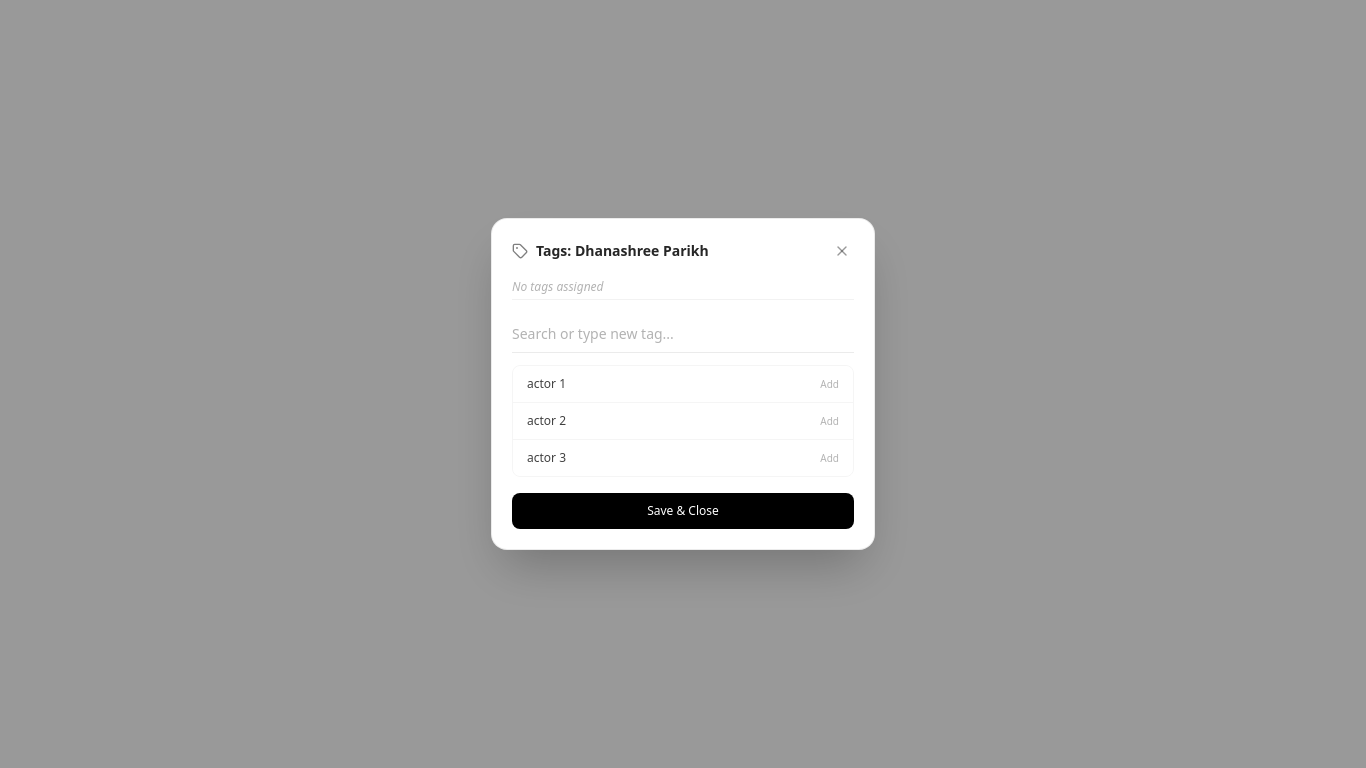
Test: TagPopover — multi-select tag assignment › never allows a tag to be staged twice — clicking again unstages it
The width and height of the screenshot is (1366, 768).
Click the button with test id "tag-option-t1" at (547, 384), box x1=513 y1=366 x2=853 y2=402
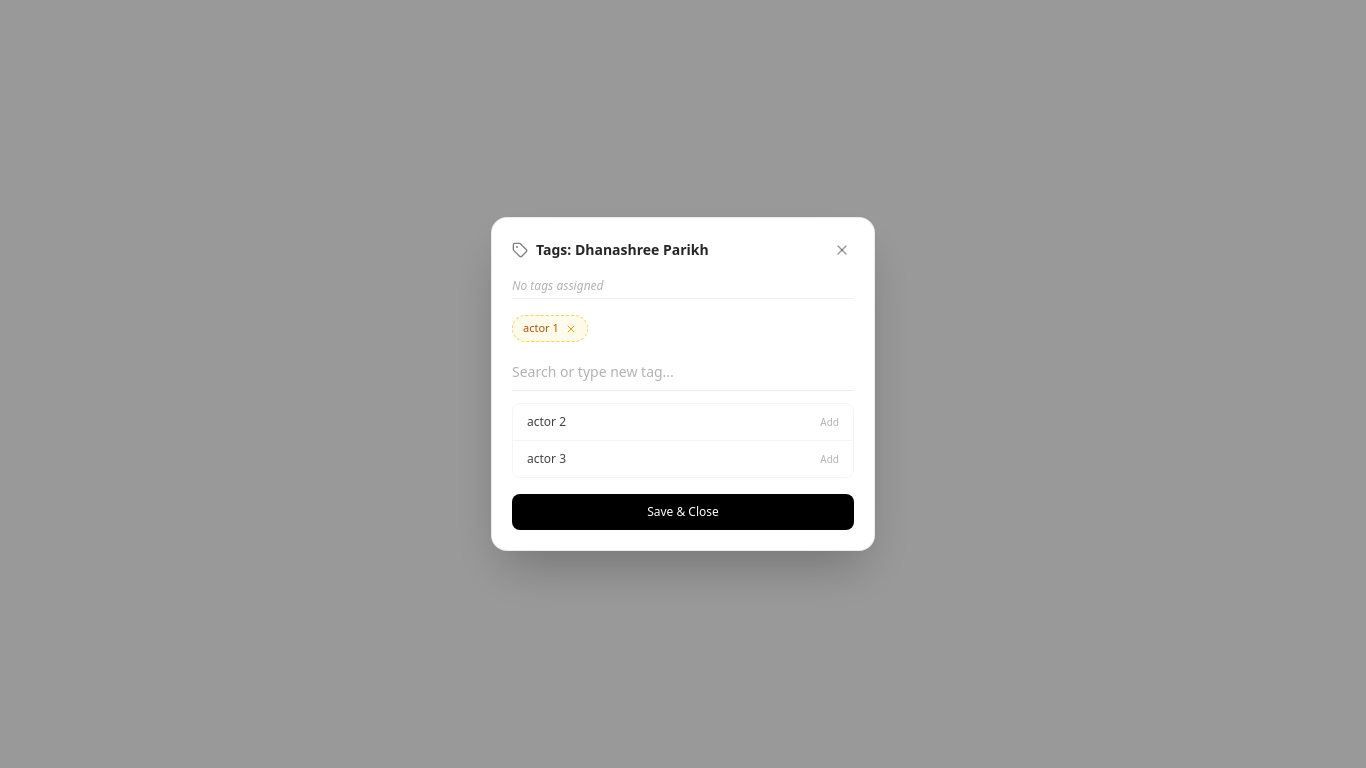
Expected: the element with test id "pending-tag-t1" is shown, x1=512 y1=315 x2=588 y2=342
Click the button without text next to "actor 1" at (571, 328), box x1=565 y1=322 x2=577 y2=334
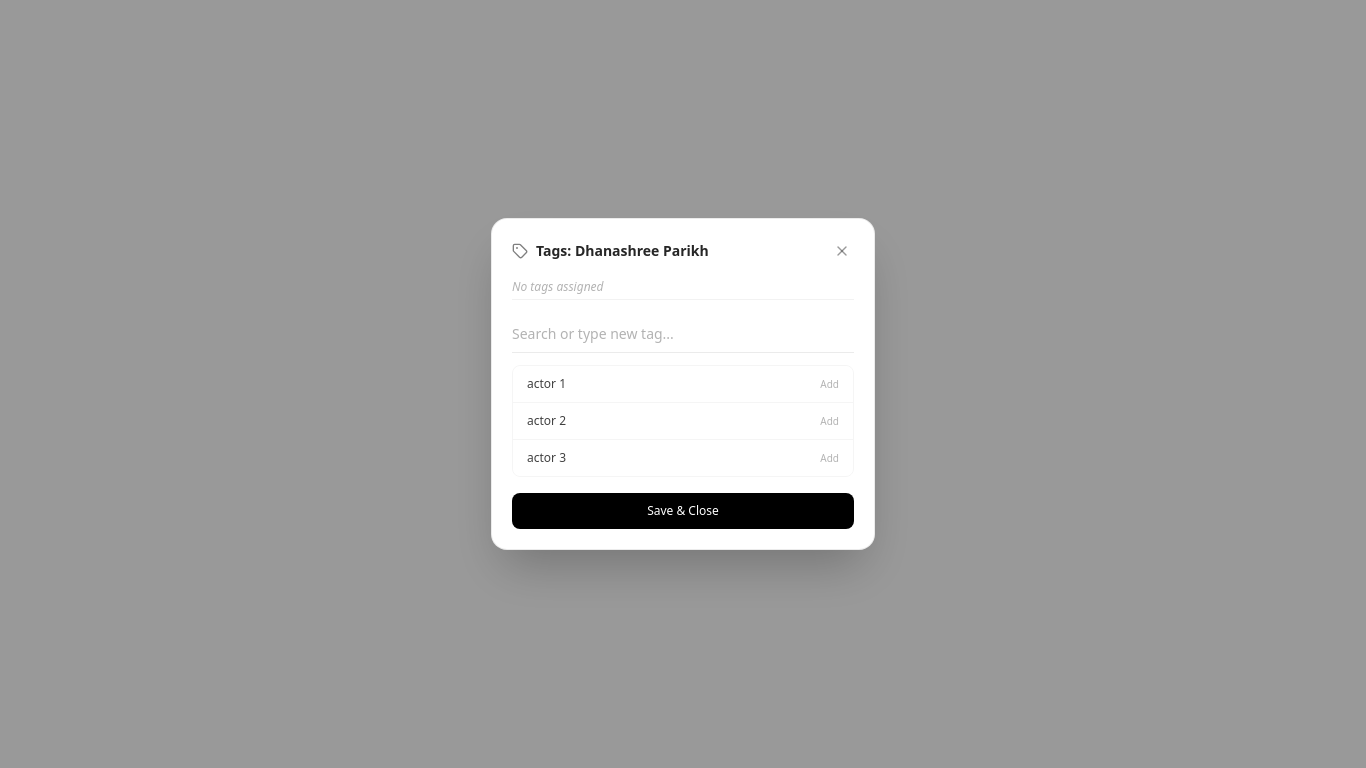
Expected: the element with test id "pending-tag-t1" is gone
Expected: the button with test id "tag-option-t1" is shown, x1=513 y1=366 x2=853 y2=402
